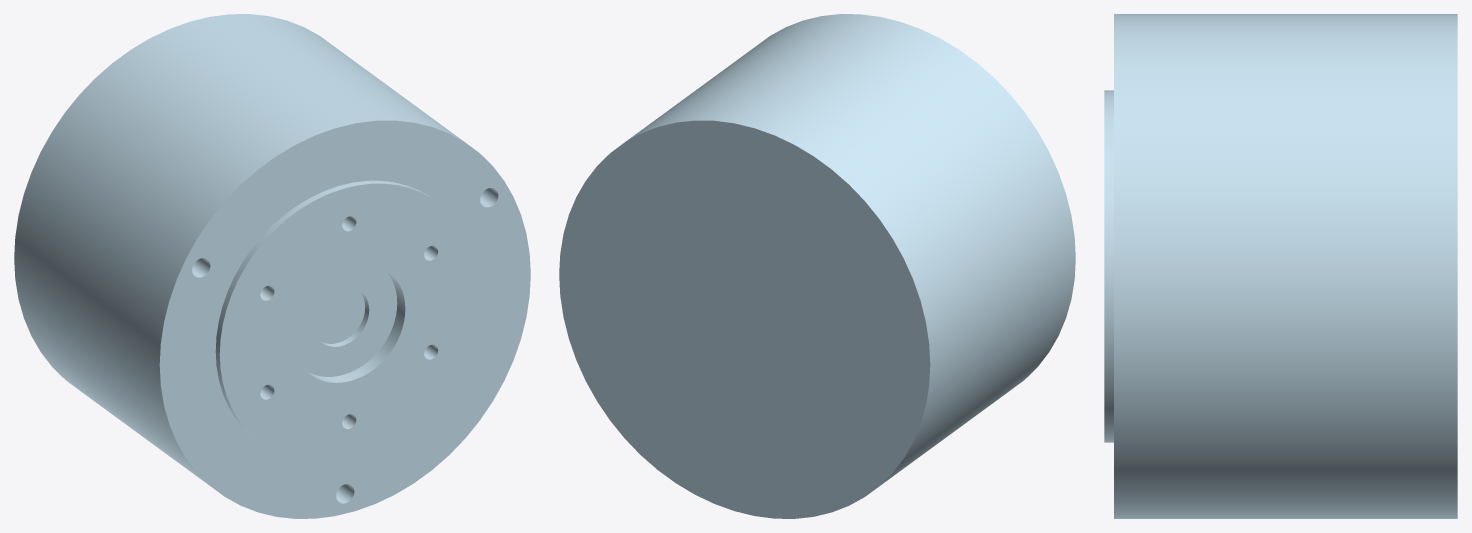
File: Robot_Master Copy 1 - Part 1 (11).gltf
The picture shows the model from 3 angles, left to right: view 1: azimuth 30°, elevation 25°; view 2: azimuth 150°, elevation 25°; view 3: azimuth 270°, elevation 25°; orthographic projection. The views are drawn at different scales.
Parts seen in each view (by area): view 1: Part 1; view 2: Part 1; view 3: Part 1.
Part boxes in pixels (x1,y1,x2,y2): Part 1: (14,14,530,518); Part 1: (559,14,1075,518); Part 1: (1104,14,1457,518).
Bounding box in the file's own units: 0.053 × 0.0529 × 0.037.
